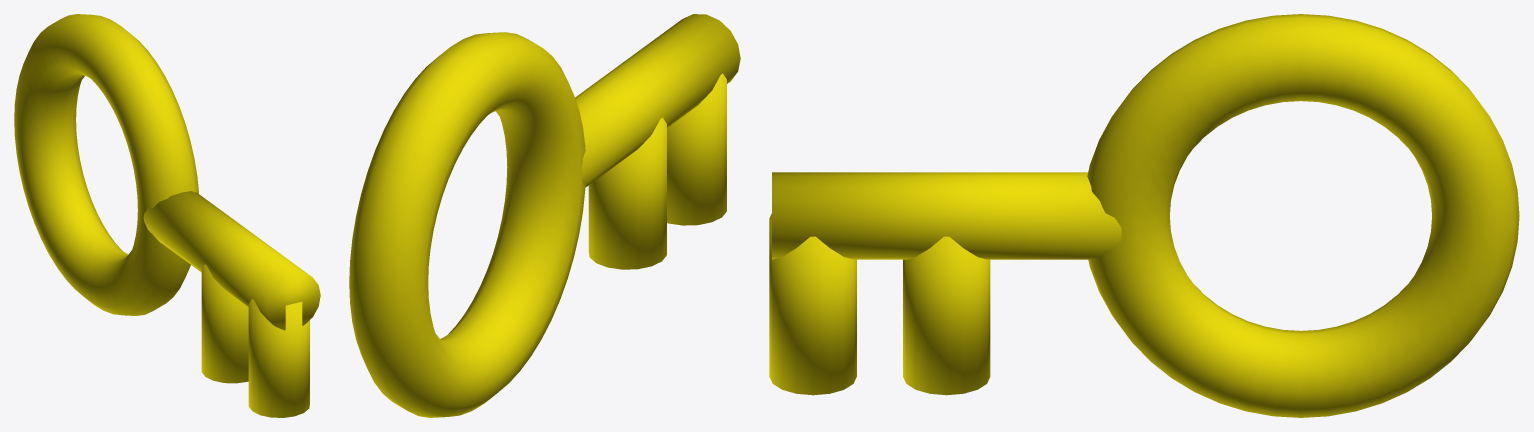
File: key.fbx
The picture shows the model from 3 angles, left to right: view 1: azimuth 30°, elevation 25°; view 2: azimuth 150°, elevation 25°; view 3: azimuth 270°, elevation 25°; orthographic projection. The views are drawn at different scales.
Visible parts, largest first — view 1: Cylinder.001; view 2: Cylinder.001; view 3: Cylinder.001.
Boxes of the visible parts, x1=… form: Cylinder.001: x1=14, y1=14, x2=320, y2=417; Cylinder.001: x1=349, y1=14, x2=740, y2=417; Cylinder.001: x1=769, y1=14, x2=1519, y2=417.
Bounding box in the file's own units: 15.04 × 75.22 × 129.
